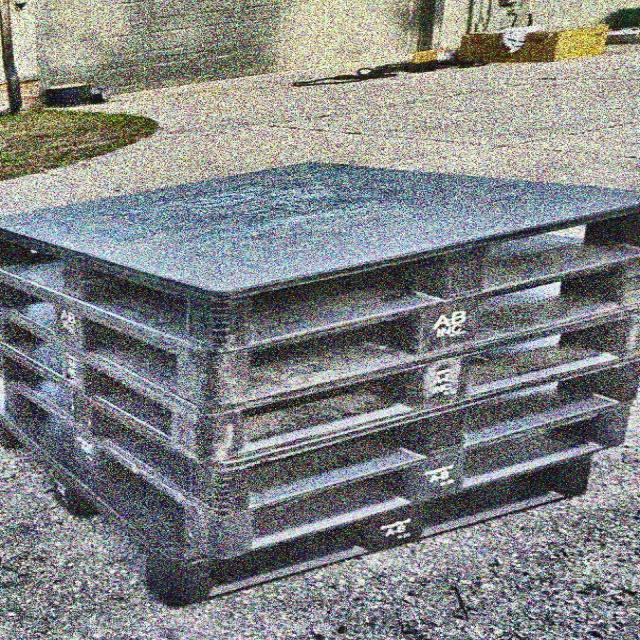non-igps: (0, 150, 640, 362), (0, 406, 606, 616), (0, 371, 640, 566), (0, 332, 639, 523), (0, 239, 640, 424), (0, 291, 640, 475)
